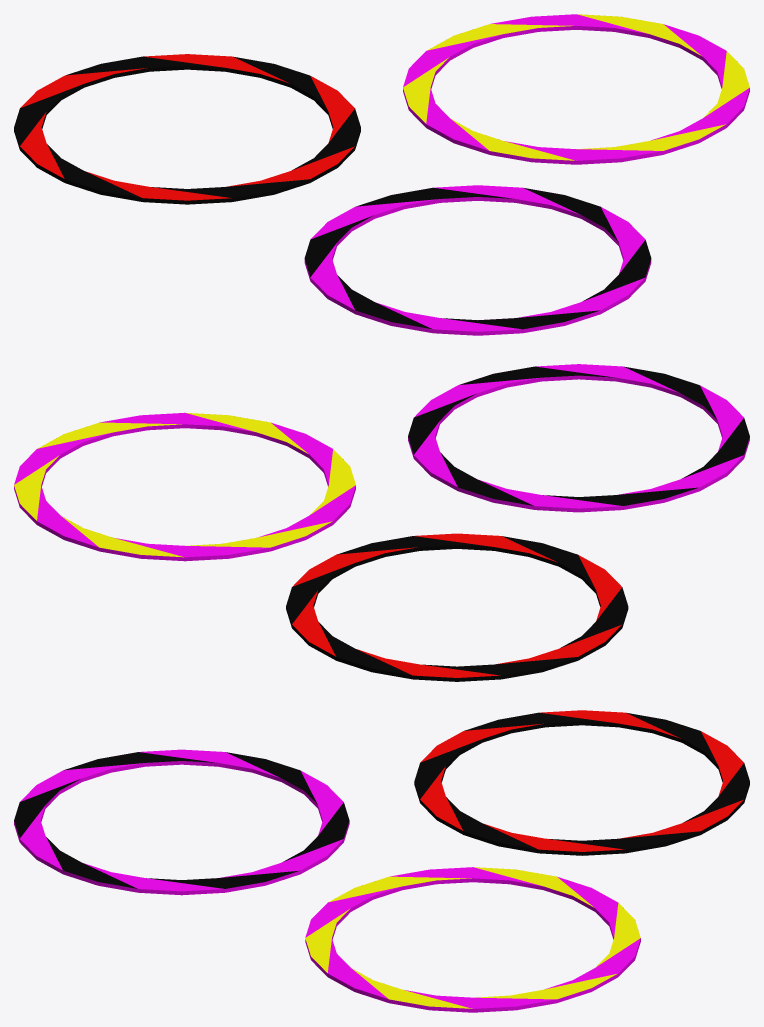
The model's file is 3aros-de-goma.glb.
3 renders of one model, top to bottom at view 1: azimuth 30°, elevation 25°; view 2: azimuth 150°, elevation 25°; view 3: azimuth 270°, elevation 25°, orthographic. The views are drawn at different scales.
Visible parts, largest first — view 1: Root Node; view 2: Root Node; view 3: Root Node.
Part boxes in pixels (x1,y1,x2,y2): Root Node: (14,14,749,335); Root Node: (14,364,749,681); Root Node: (14,710,749,1012).
Size of the model in its own units: 0.8426 by 0.00502 by 0.8772.
